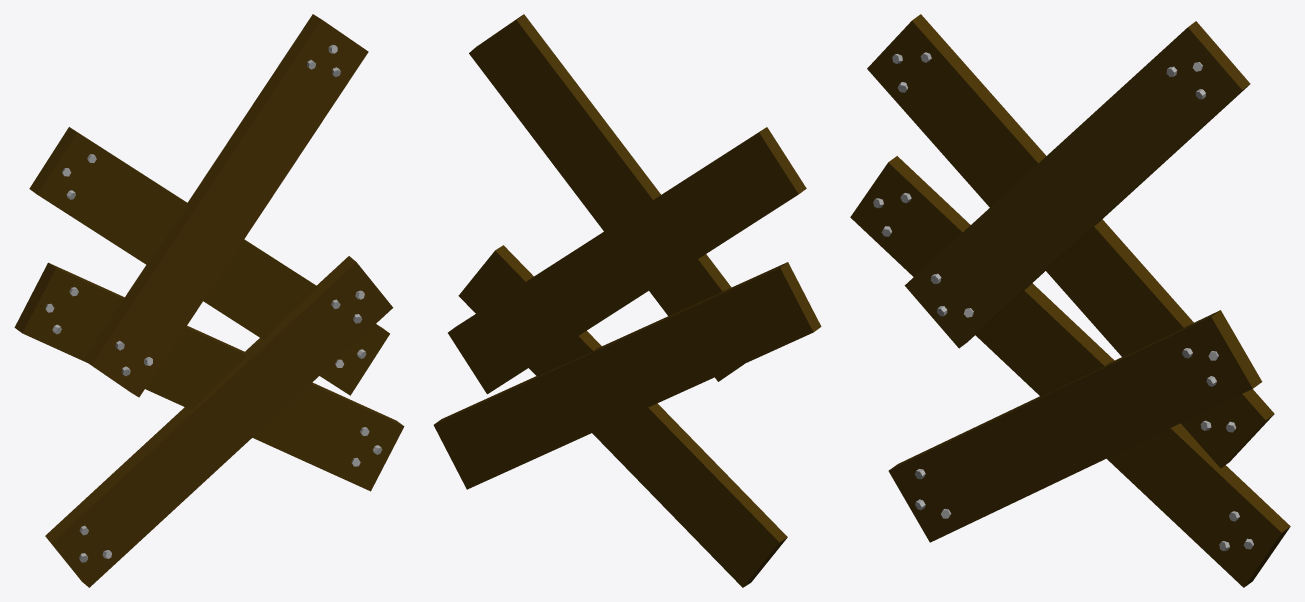
Rendered from barricade_window.fbx.
3 renders of one model, left to right at view 1: azimuth 30°, elevation 25°; view 2: azimuth 150°, elevation 25°; view 3: azimuth 330°, elevation 25°, orthographic. The views are drawn at different scales.
Parts seen in each view (by area): view 1: pCube5 (×4); view 2: pCube5 (×4); view 3: pCube5 (×4).
Boxes of the visible parts, box(x1,y1,x2,y2) form: pCube5 (×4): box(14, 14, 404, 587); pCube5 (×4): box(433, 14, 821, 587); pCube5 (×4): box(850, 14, 1290, 587).
Size of the model in its own units: 5.97 by 7.68 by 0.6117.
